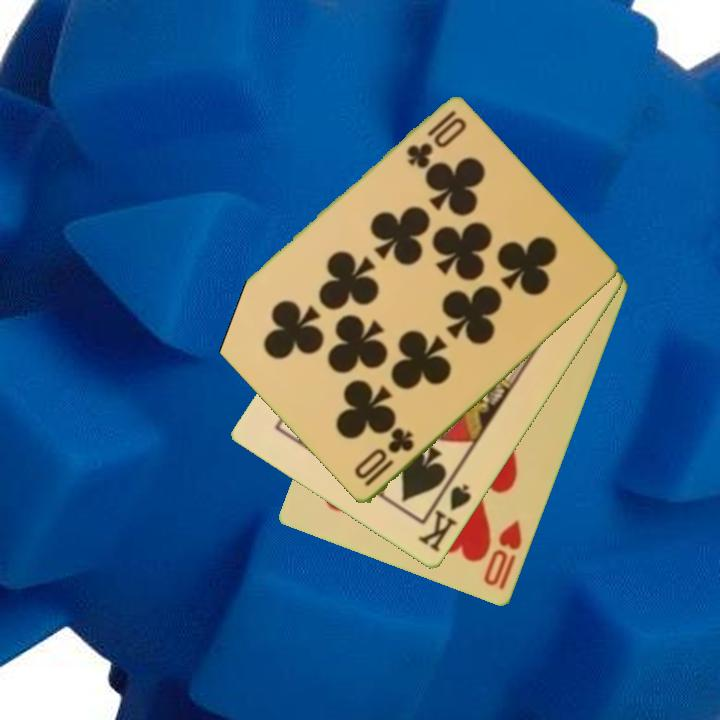10c: (350, 424, 418, 491), (403, 107, 470, 171)
10h: (480, 516, 526, 593)
Ks: (414, 481, 475, 556)
